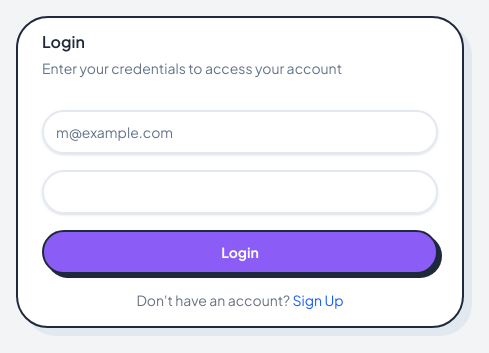
Test: LoginPage › can toggle to sign up
Click the button "Sign Up" at (318, 300), box [292,290,344,310]
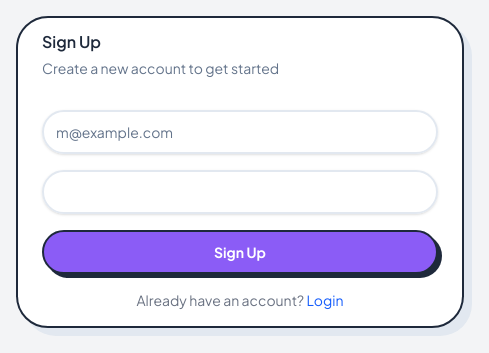
Result: the text "Sign Up" is shown at [42,31,101,52]
